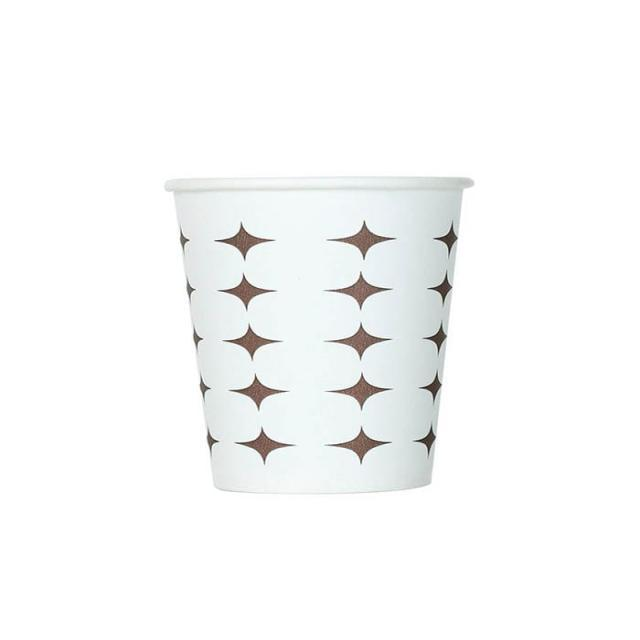trash: (162, 152, 493, 504)
